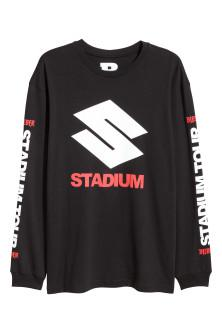teeshirt: (1, 40, 216, 331)
